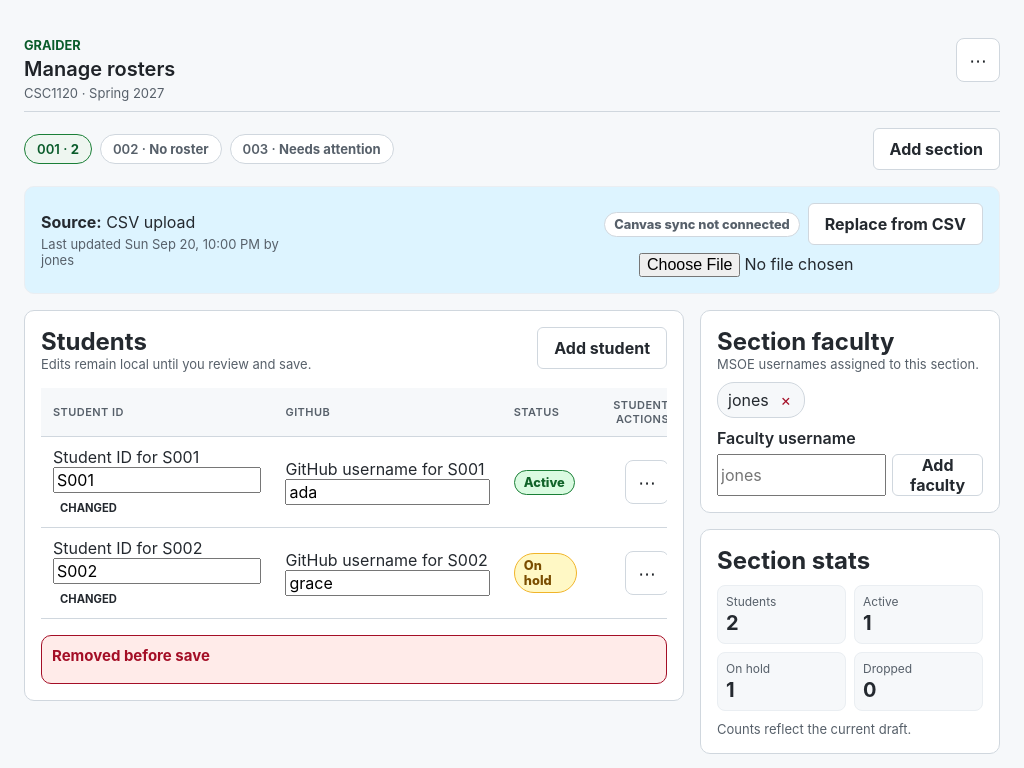
Test: RosterManagerPage › discards a new section draft without creating backend data
Check: the field showing "ada" is shown, box [286,479,490,505]
Click the button "Add section" at (936, 149), box [873,128,1000,170]
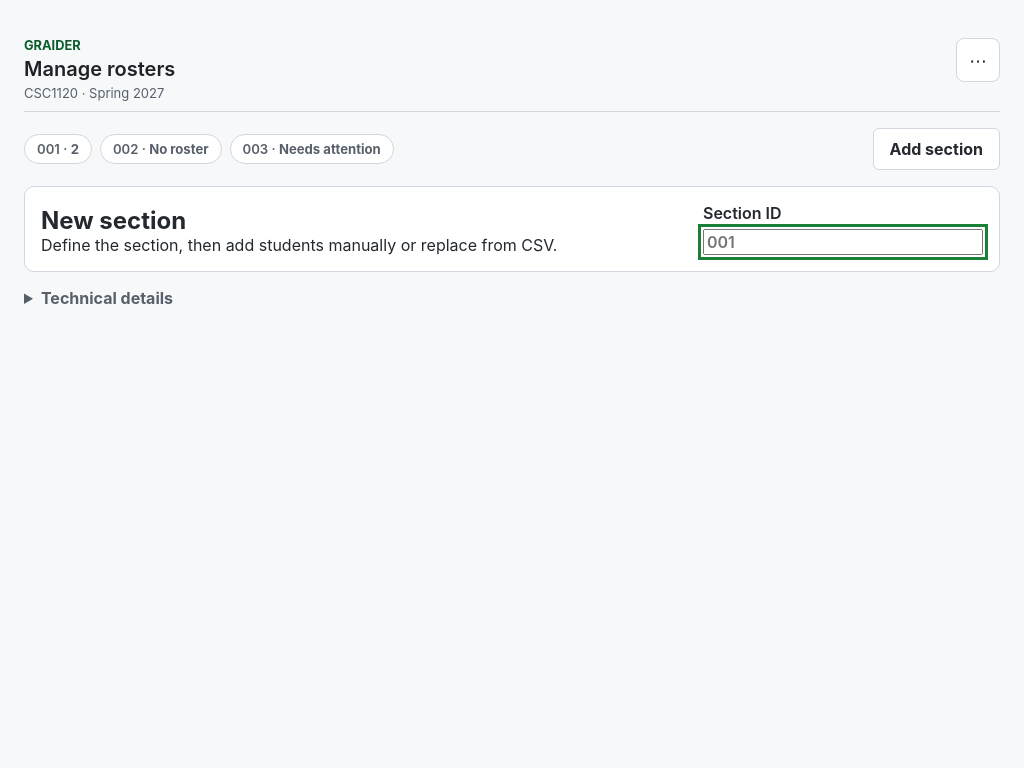
Type "004" into the field labelled "Section ID" at (843, 242), box [703,229,983,255]
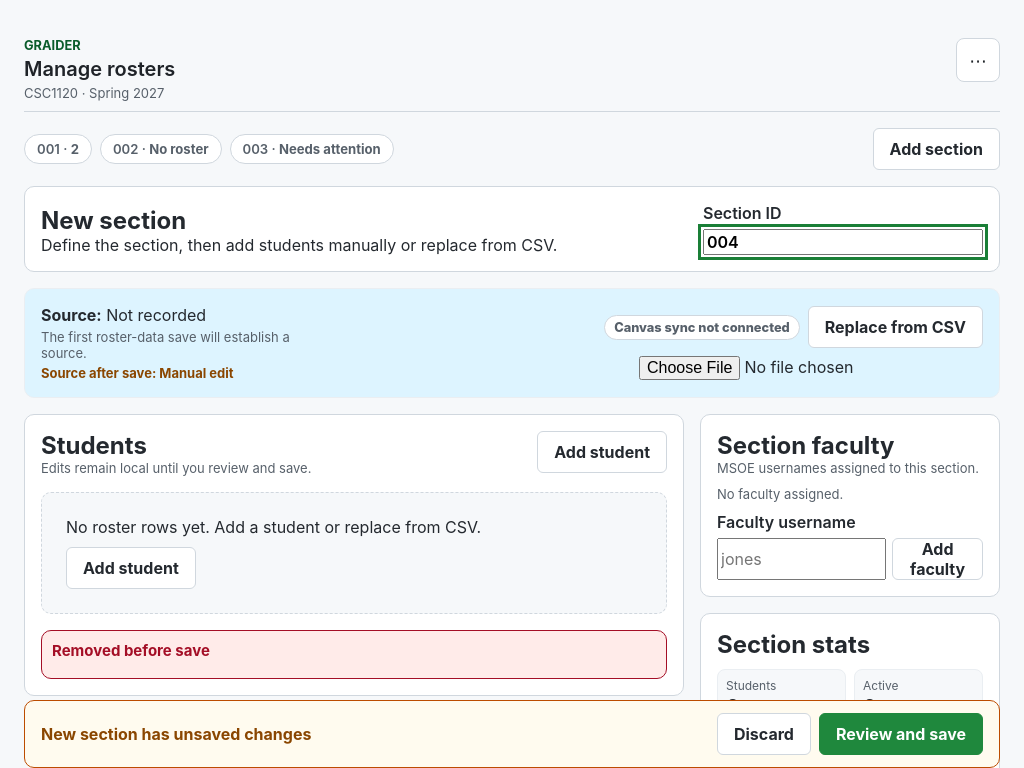
Click the button "Discard" at (764, 734), box [717,713,811,755]
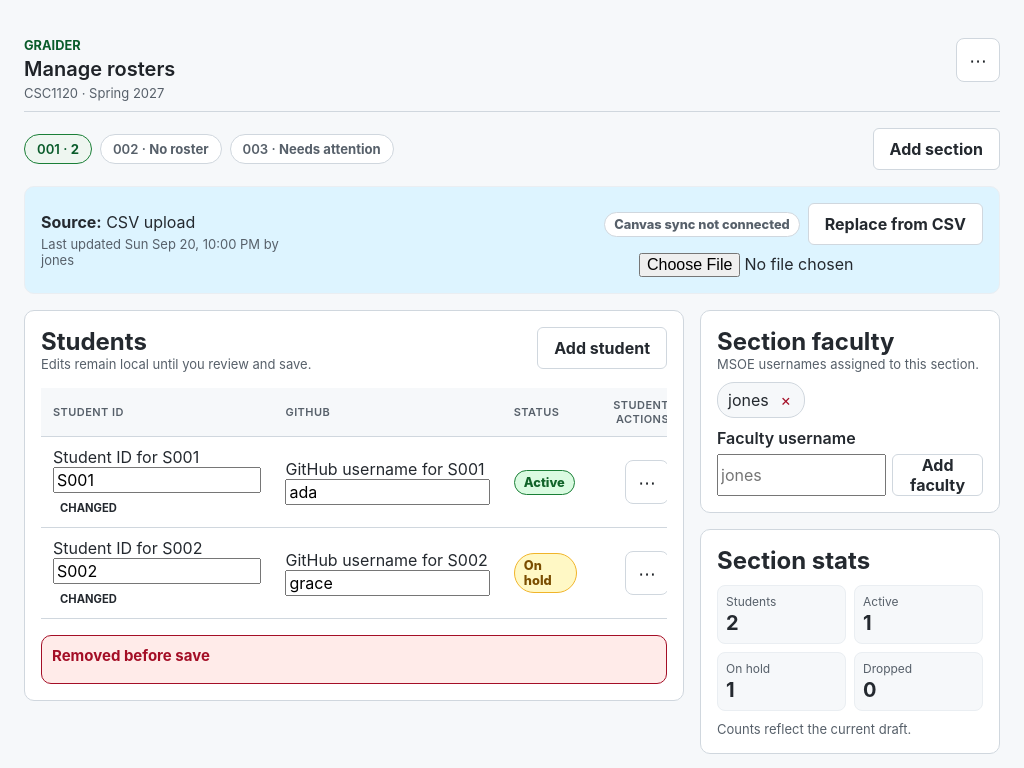
Check: the heading "New section" is gone
Check: the field showing "ada" is shown, box [286,479,490,505]
